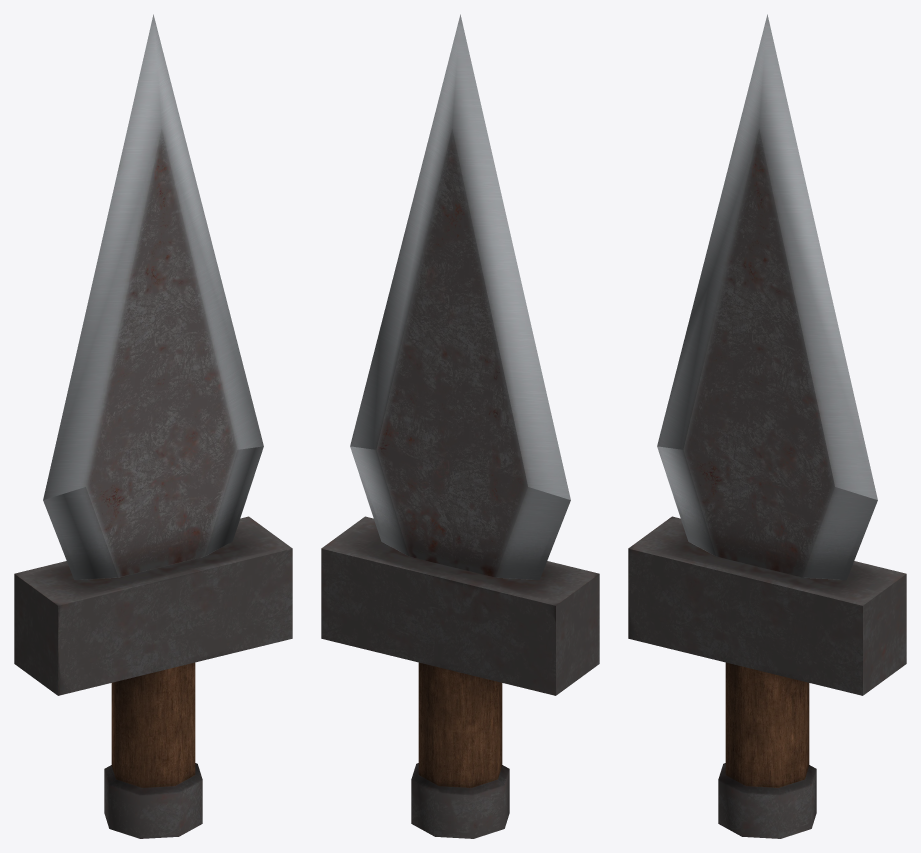
File: knife.glb
3 views of the same model, side by side, from view 1: azimuth 30°, elevation 25°; view 2: azimuth 150°, elevation 25°; view 3: azimuth 330°, elevation 25° (orthographic).
Visible parts, largest first — view 1: knif group1; view 2: knif group1; view 3: knif group1.
Boxes of the visible parts, x1,y1,x2,y2 form: knif group1: [14, 14, 292, 838]; knif group1: [321, 14, 599, 838]; knif group1: [628, 14, 906, 838].
Bounding box in the file's own units: 2.11 × 6.92 × 0.7968.
1 material, 1 textured.
